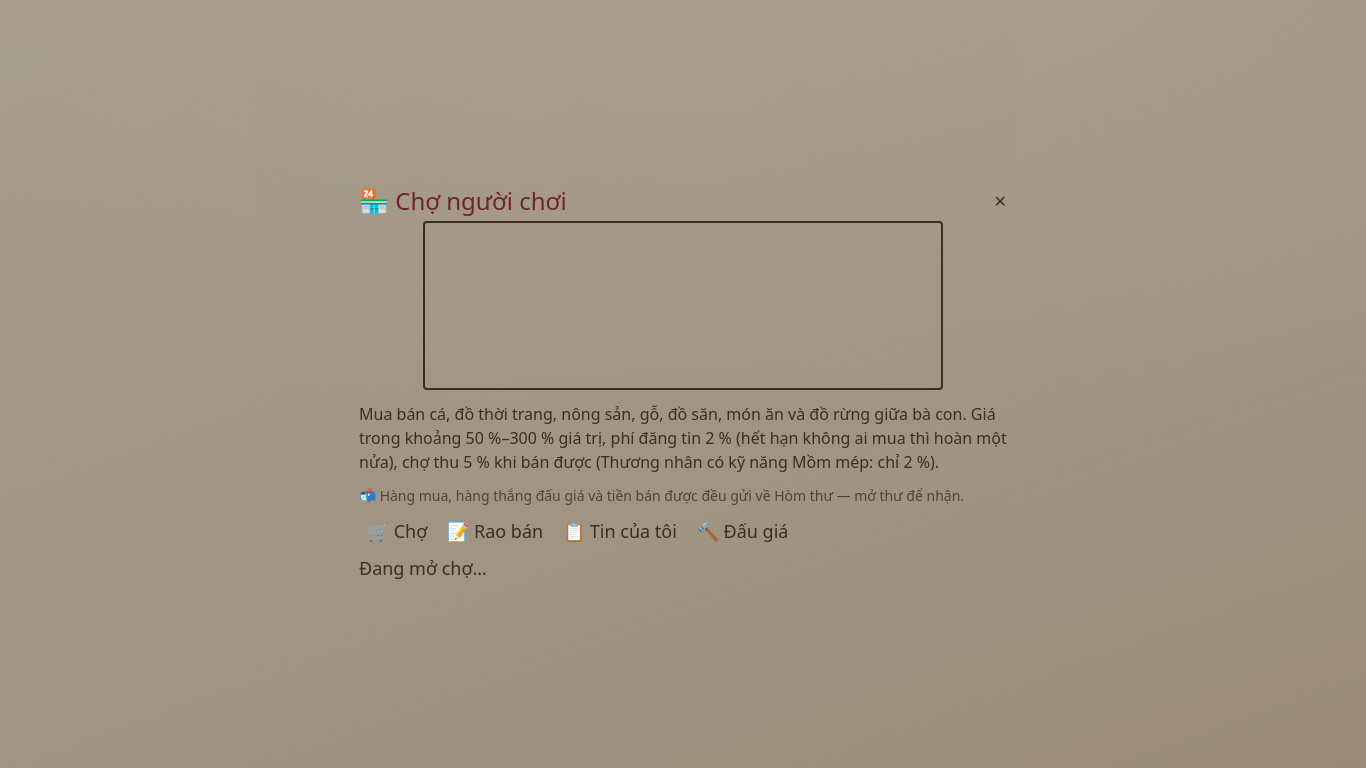
Scenario: PlayerMarketModal › bids the minimum on an auction and shows a refusal
Click the tab "🔨 Đấu giá". click: coordinates (743, 531)
box: [689, 518, 796, 544]
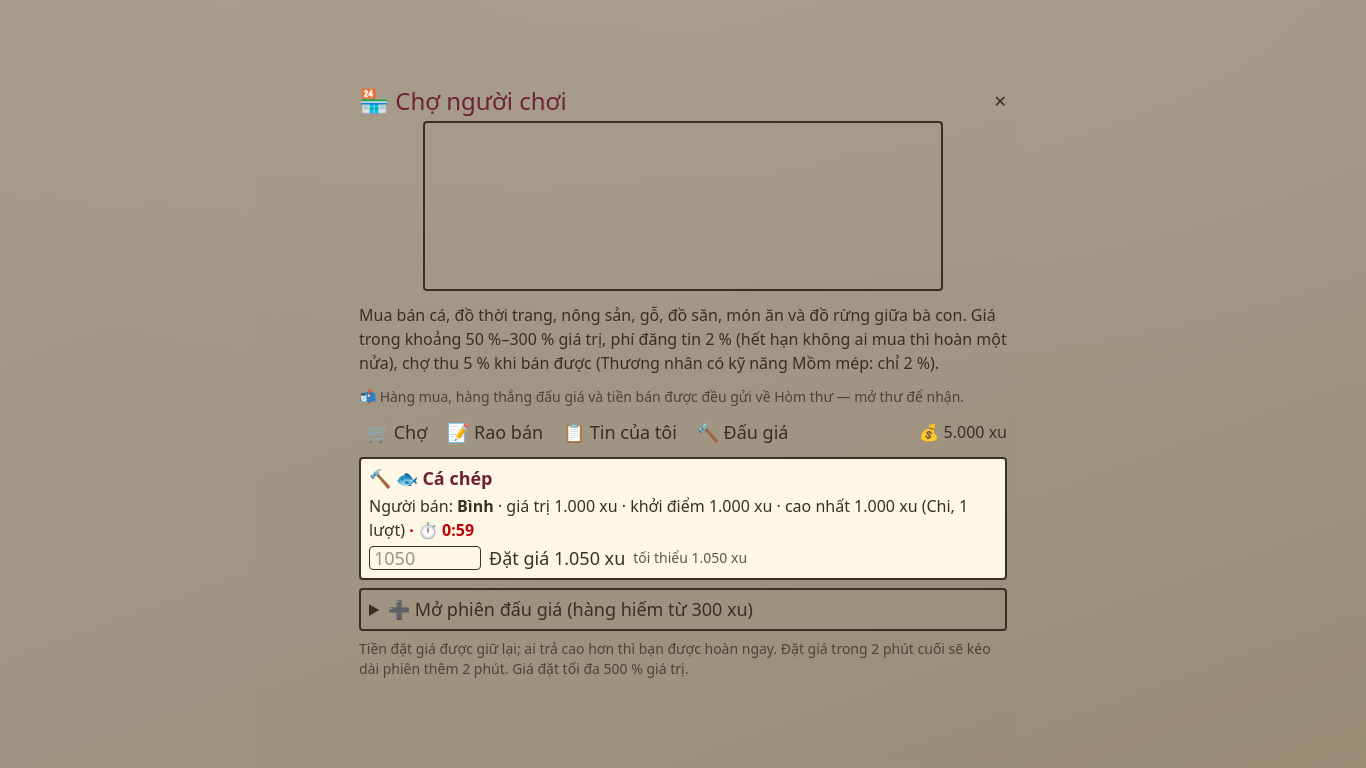
Click the button "Đặt giá 1.050 xu". click: coordinates (557, 558)
box: [489, 546, 625, 569]
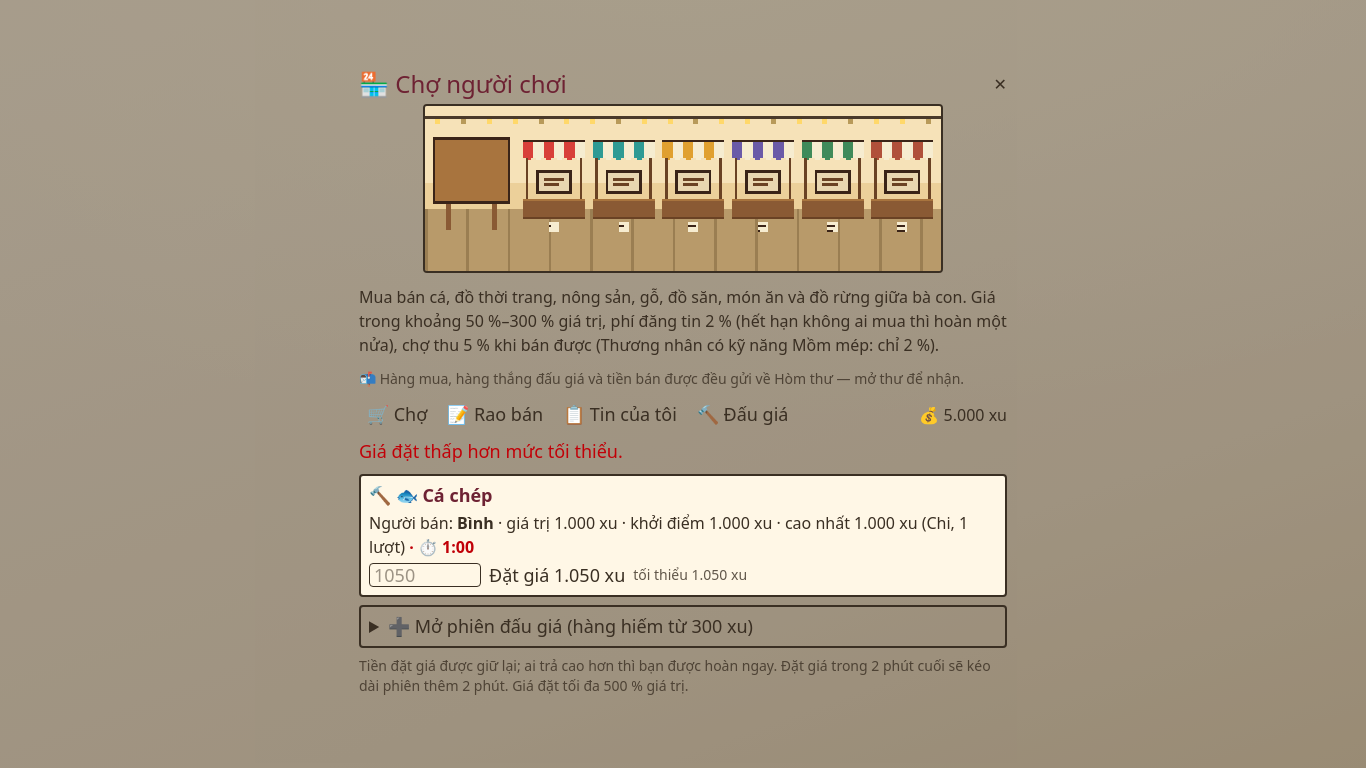
Check: the message shows "thấp hơn mức tối thiểu", box [359, 439, 623, 463]
